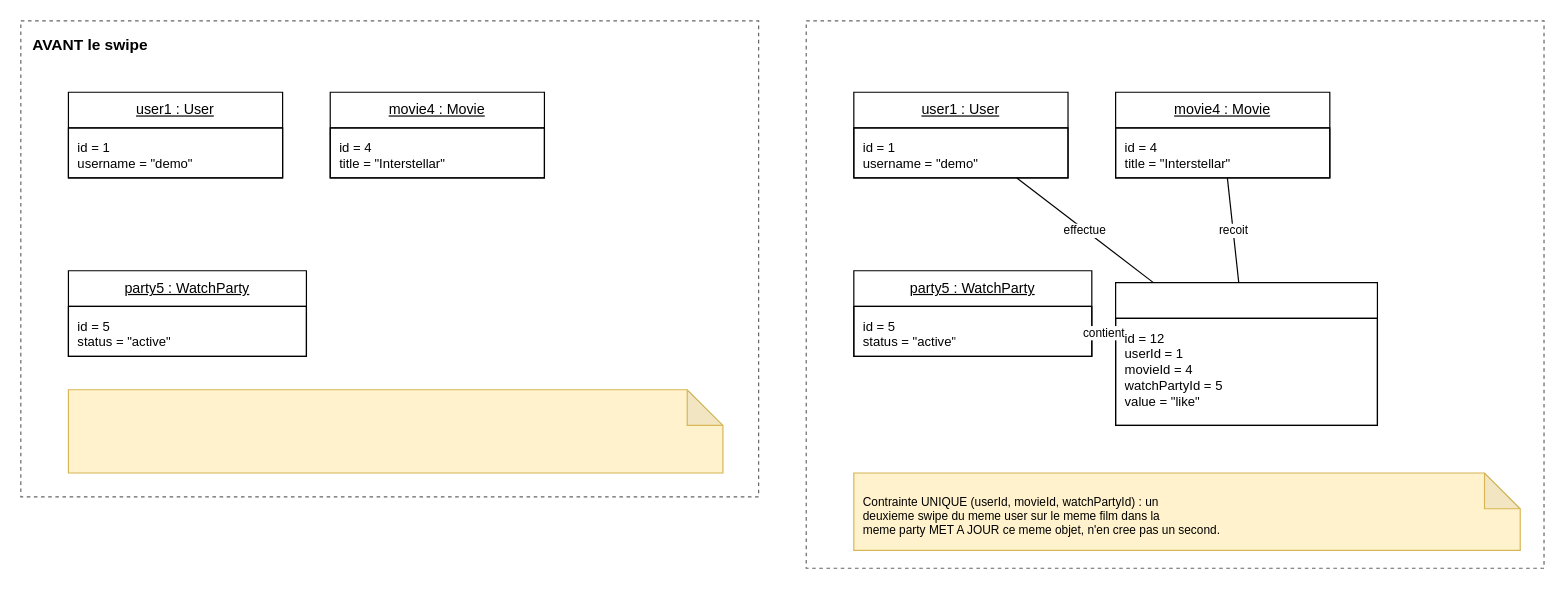
Image size: 1565x589. Some labels were removed from this diagram. Here are the shapes that lost their labels. From the top down, the box of each, then its label:
(805, 20, 1544, 568): APRES le swipe
(1114, 281, 1377, 425): swipe1 : Swipe
(67, 389, 723, 473): Aucun Swipe n'existe encore pour le triplet (user1, movie4, party5).
